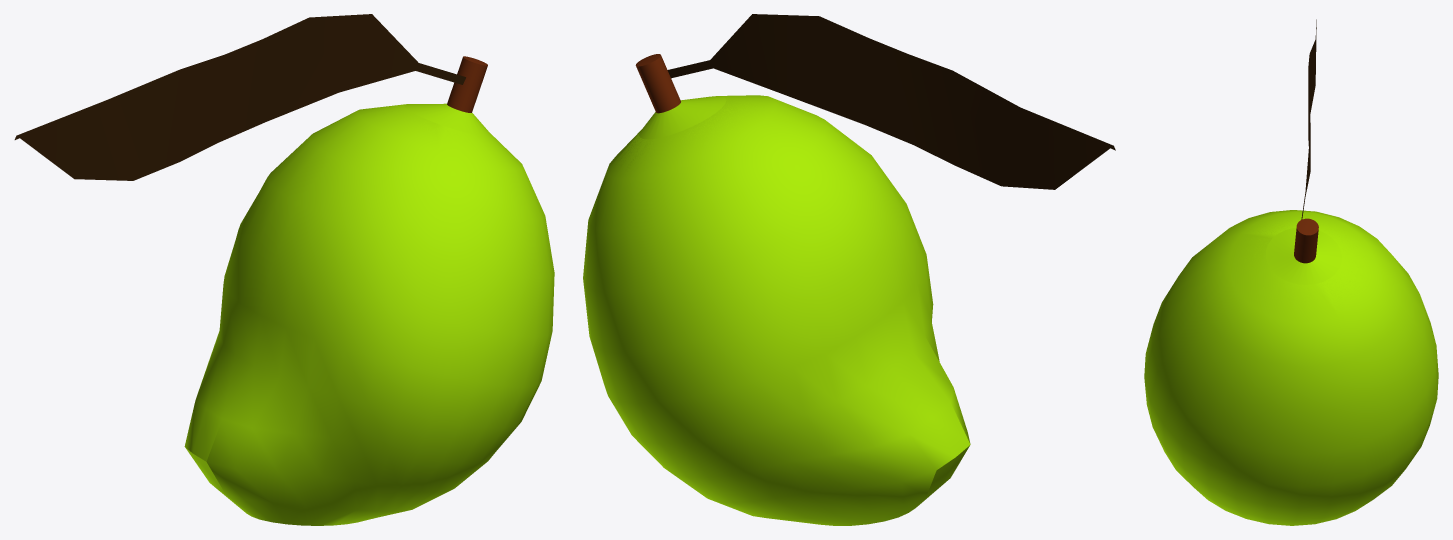
The model's file is mango.gltf.
The picture shows the model from 3 angles, left to right: view 1: azimuth 30°, elevation 25°; view 2: azimuth 150°, elevation 25°; view 3: azimuth 270°, elevation 25°; orthographic projection. The views are drawn at different scales.
Visible parts, largest first — view 1: Plane.003; view 2: Plane.003; view 3: Plane.003.
Part boxes in pixels (x1,y1,x2,y2): Plane.003: (14, 14, 554, 525); Plane.003: (583, 14, 1115, 525); Plane.003: (1144, 19, 1438, 525).
Size of the model in its own units: 0.9269 by 0.8585 by 0.558.
